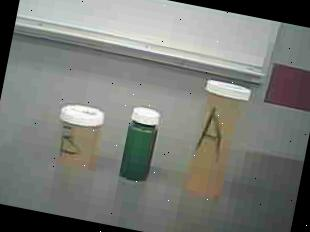Bottle A: (175, 70, 262, 211)
Bottle B: (46, 99, 117, 176)
Bottle C: (114, 106, 165, 186)
